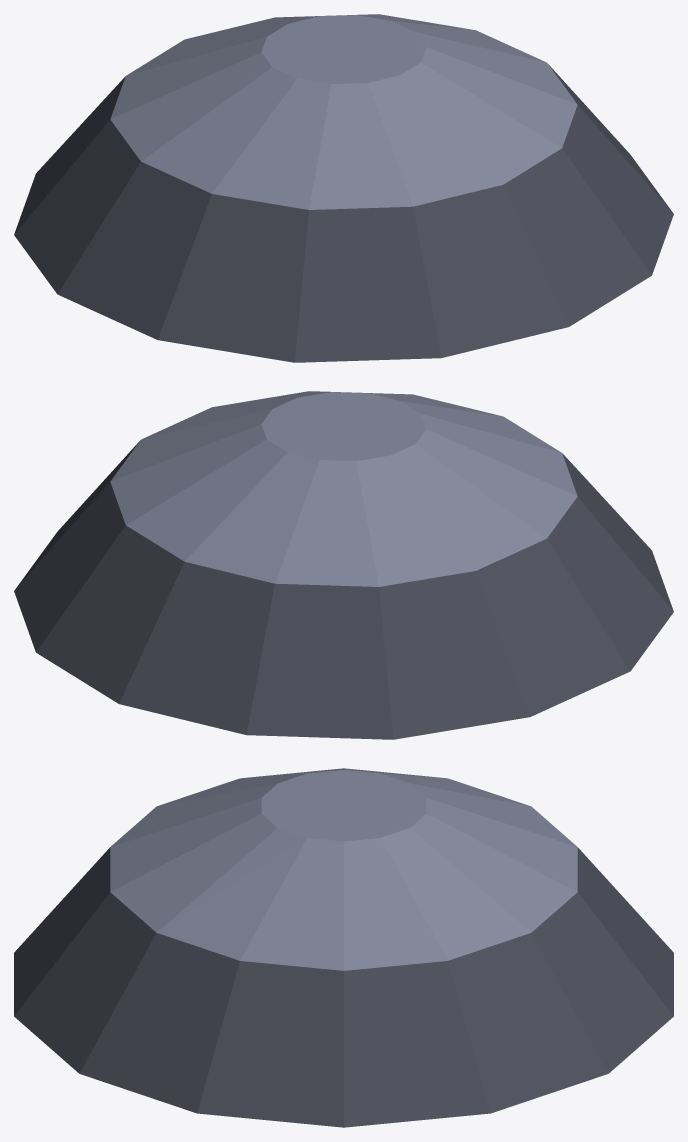
The model's file is item_heat_shield.glb.
The picture shows the model from 3 angles, top to bottom: view 1: azimuth 30°, elevation 25°; view 2: azimuth 150°, elevation 25°; view 3: azimuth 270°, elevation 25°; orthographic projection. The views are drawn at different scales.
Parts seen in each view (by area): view 1: item_heat_shield; view 2: item_heat_shield; view 3: item_heat_shield.
Boxes of the visible parts, <box> form: item_heat_shield: <box>14,14,673,362</box>; item_heat_shield: <box>14,391,673,739</box>; item_heat_shield: <box>14,768,673,1127</box>.
Size of the model in its own units: 0.96 by 0.28 by 0.936.
